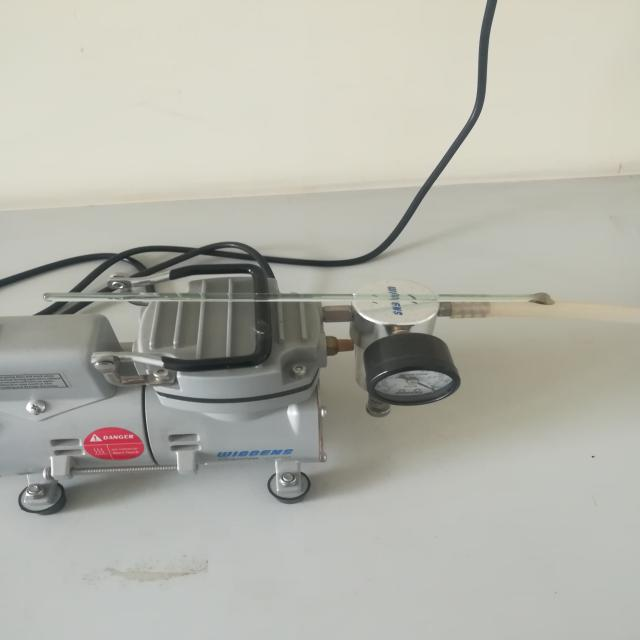Glass_Rod: (35, 258, 572, 326)
